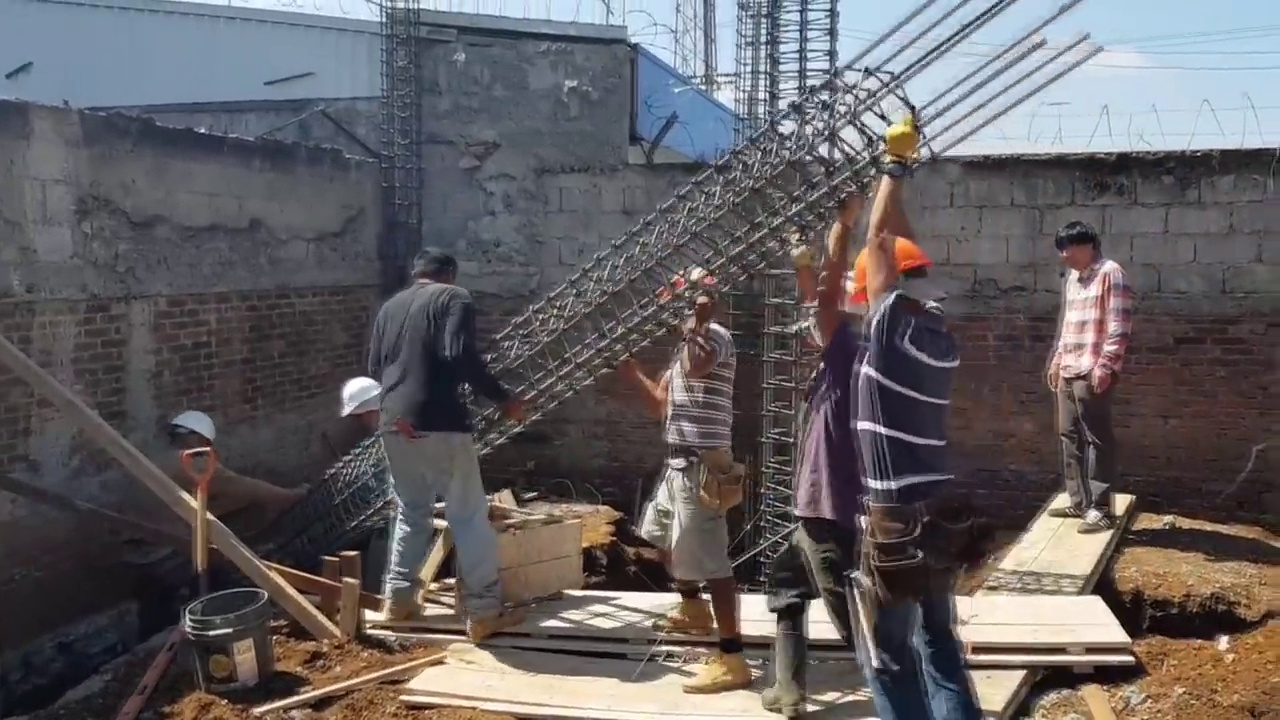helmet: (850, 226, 929, 305), (660, 270, 718, 301), (338, 379, 379, 420), (170, 412, 214, 444)
helmet-off: (1060, 223, 1108, 279), (402, 249, 457, 297)
helmet-on: (849, 224, 931, 328), (661, 270, 721, 335), (158, 413, 216, 479), (335, 371, 386, 443)
person: (827, 222, 981, 692), (376, 250, 521, 663), (770, 210, 885, 703), (632, 261, 742, 686), (128, 408, 314, 601), (1049, 229, 1137, 547), (318, 380, 392, 609)
